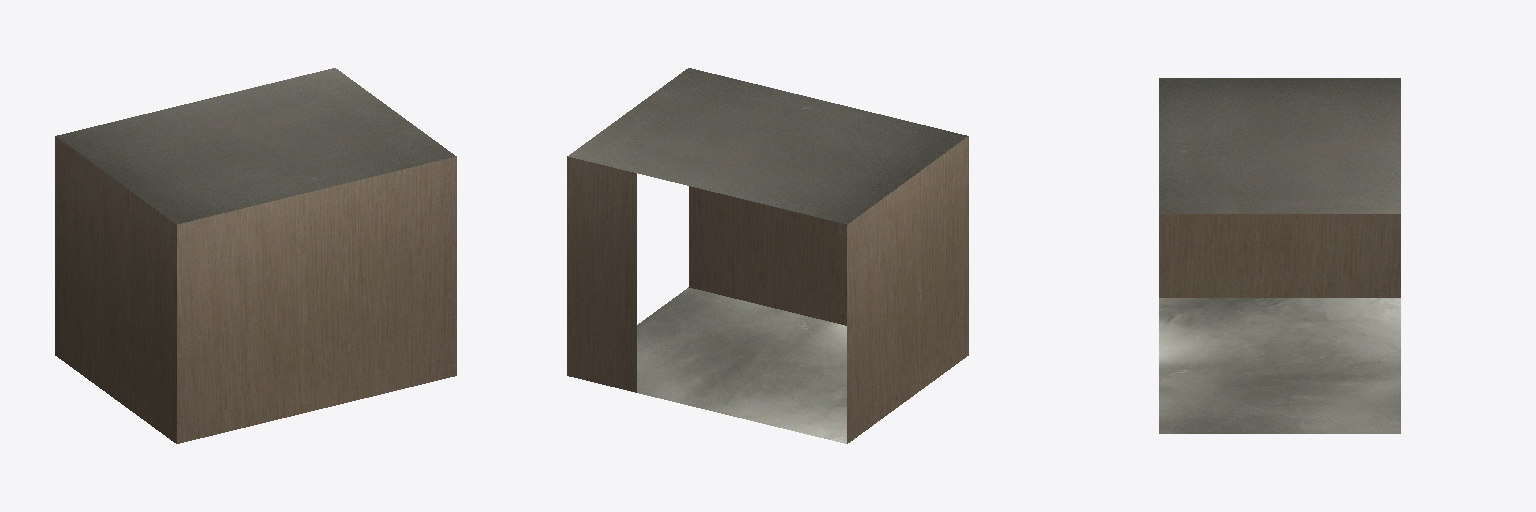
3 views of the same model, side by side, from view 1: azimuth 30°, elevation 25°; view 2: azimuth 150°, elevation 25°; view 3: azimuth 270°, elevation 25° (orthographic).
Parts seen in each view (by area): view 1: Cube_2_Untitled.003; view 2: Cube_2_Untitled.003; view 3: Cube_2_Untitled.003.
Part boxes in pixels (x1,y1,x2,y2): Cube_2_Untitled.003: (55,68,456,443); Cube_2_Untitled.003: (567,68,968,443); Cube_2_Untitled.003: (1159,78,1400,433).
Bounding box in the file's own units: 8 × 6 × 6.
1 materials, 1 textured.